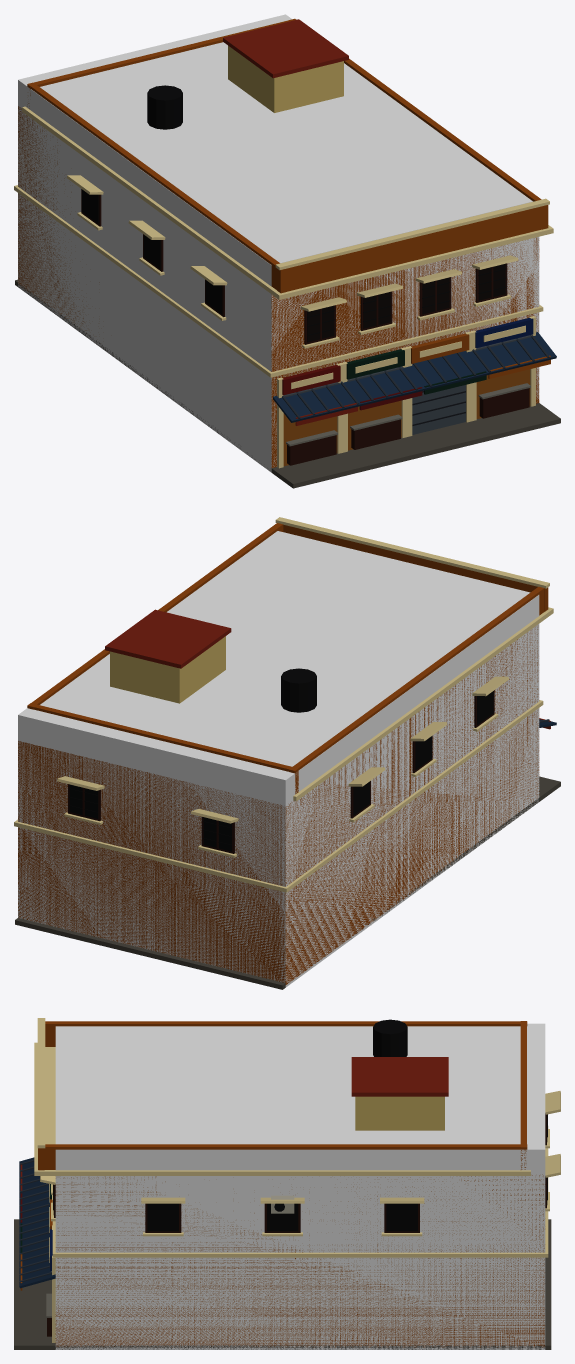
Rendered from K09_bazaar_block.glb.
The picture shows the model from 3 angles, top to bottom: view 1: azimuth 30°, elevation 25°; view 2: azimuth 150°, elevation 25°; view 3: azimuth 270°, elevation 25°; orthographic projection. The views are drawn at different scales.
Visible parts, largest first — view 1: COL_Main, LOD0; view 2: COL_Main, LOD0; view 3: COL_Main, LOD0.
Boxes of the visible parts, <box> form: COL_Main: <box>18,14,539,472</box>; LOD0: <box>14,18,560,488</box>; COL_Main: <box>18,531,539,987</box>; LOD0: <box>14,517,560,989</box>; COL_Main: <box>55,1023,545,1349</box>; LOD0: <box>14,1018,560,1349</box>.
Size of what is drawn, in the model's own units: 11.05 by 8.86 by 18.32.
